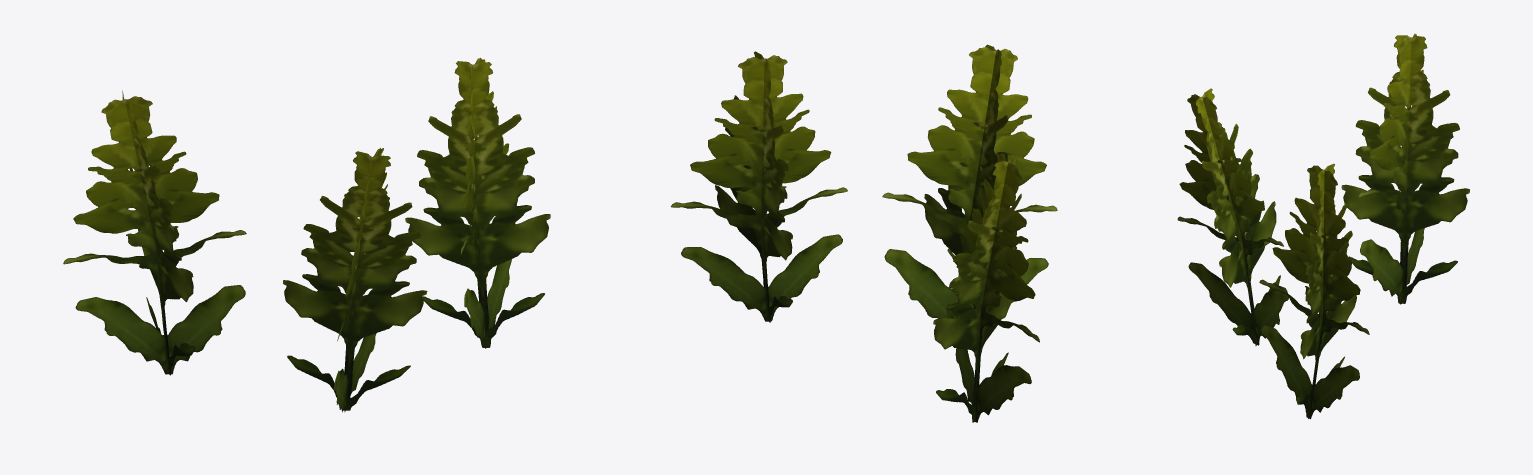
The model's file is grass_10.fbx.
3 renders of one model, left to right at view 1: azimuth 30°, elevation 25°; view 2: azimuth 150°, elevation 25°; view 3: azimuth 270°, elevation 25°, orthographic. The views are drawn at different scales.
Visible parts, largest first — view 1: polySurface82, polySurface80, polySurface81; view 2: polySurface80, polySurface81, polySurface82; view 3: polySurface82, polySurface81, polySurface80.
Boxes of the visible parts, <box> form: polySurface82: <box>63,90,246,375</box>; polySurface80: <box>405,57,550,348</box>; polySurface81: <box>283,148,427,412</box>; polySurface80: <box>671,51,847,322</box>; polySurface81: <box>882,44,1057,318</box>; polySurface82: <box>933,153,1039,422</box>; polySurface82: <box>1341,33,1469,304</box>; polySurface81: <box>1177,88,1288,346</box>; polySurface80: <box>1259,163,1369,419</box>.
Bounding box in the file's own units: 1.52 × 0.877 × 1.16.
